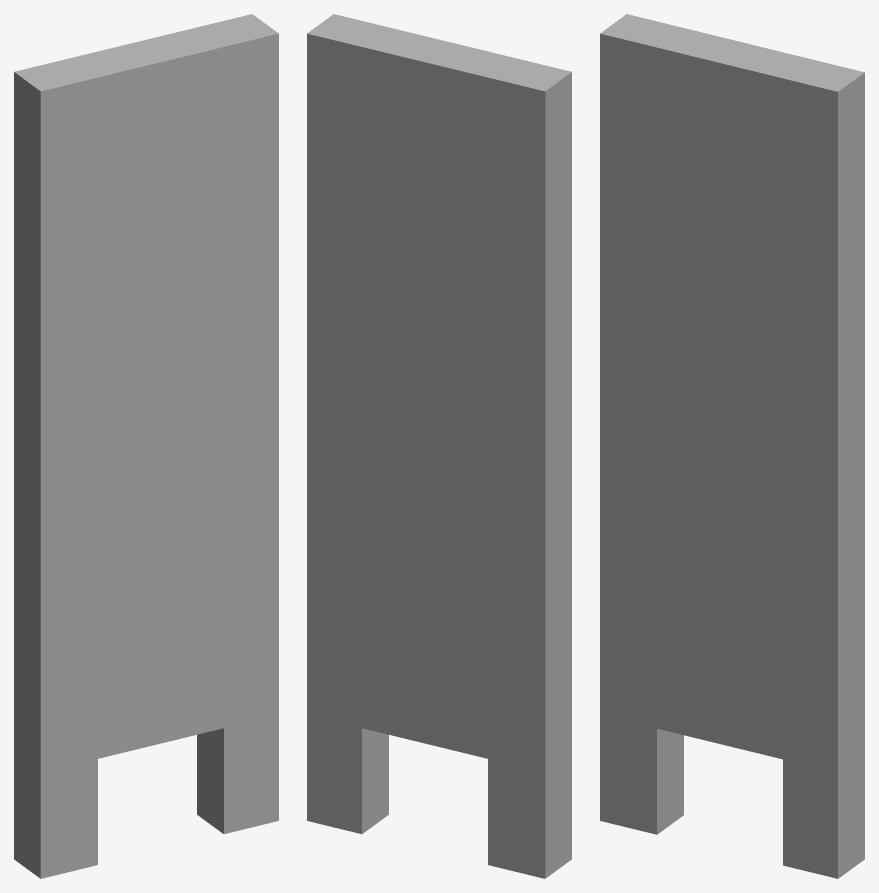
File: EnteranceWall 1.fbx
3 views of the same model, side by side, from view 1: azimuth 30°, elevation 25°; view 2: azimuth 150°, elevation 25°; view 3: azimuth 330°, elevation 25° (orthographic).
Visible parts, largest first — view 1: WallElement_Enterance; view 2: WallElement_Enterance; view 3: WallElement_Enterance.
Part boxes in pixels (x1,y1,x2,y2): WallElement_Enterance: (14,14,278,878); WallElement_Enterance: (307,14,571,878); WallElement_Enterance: (600,14,864,878).
Bounding box in the file's own units: 0.9963 × 16.16 × 5.11.
